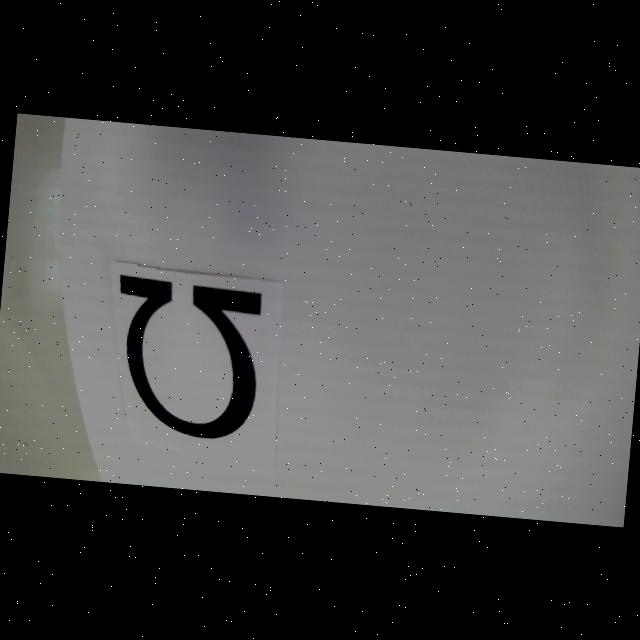OMEGA: (106, 273, 264, 442)
